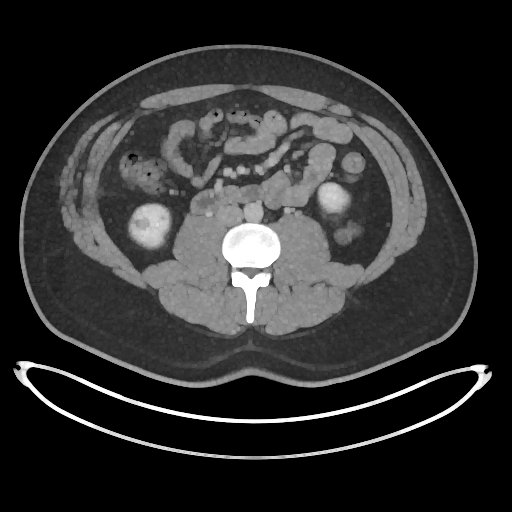Lesion: (127, 217, 155, 232)
